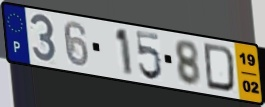1: (114, 28, 134, 77)
3: (29, 12, 59, 66)
5: (135, 29, 164, 82)
6: (62, 20, 91, 69)
8: (173, 38, 203, 89)
D: (202, 41, 237, 95)
